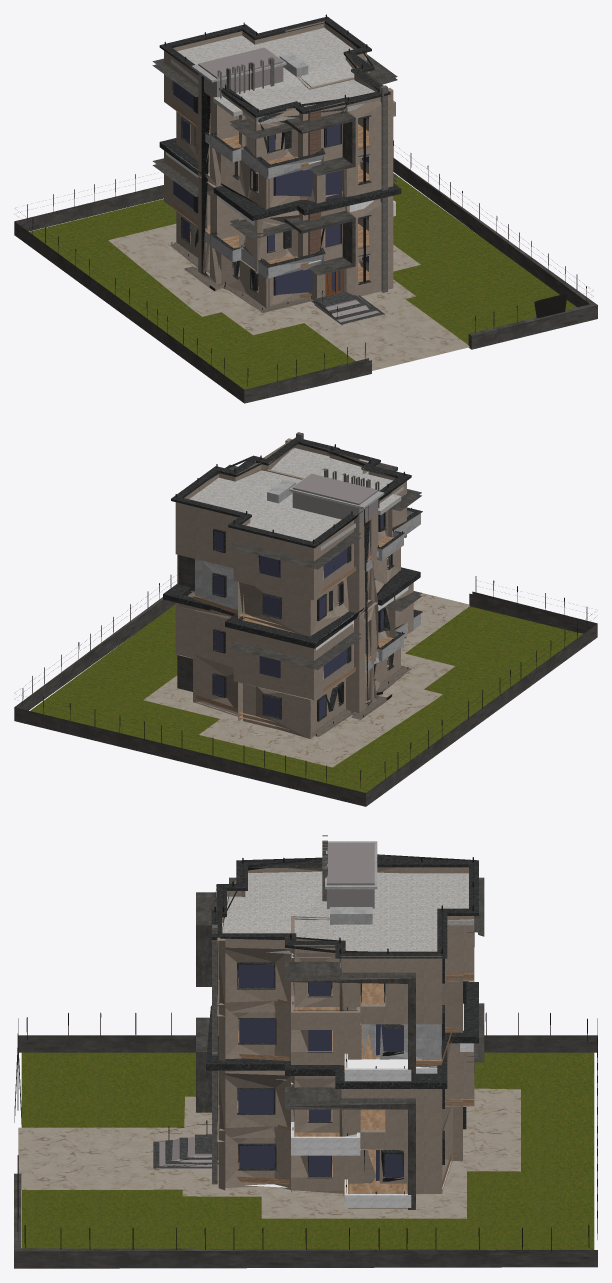
3 renders of one model, top to bottom at view 1: azimuth 30°, elevation 25°; view 2: azimuth 150°, elevation 25°; view 3: azimuth 270°, elevation 25°, orthographic. The views are drawn at different scales.
Size of the model in its own units: 26.77 by 15.93 by 30.51.
Materials: 21 (15 with a texture image).
